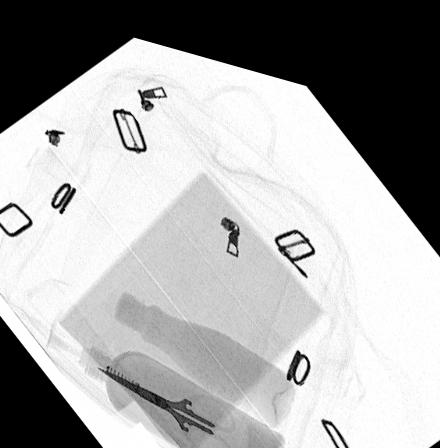Scissors: (93, 361, 235, 448)
